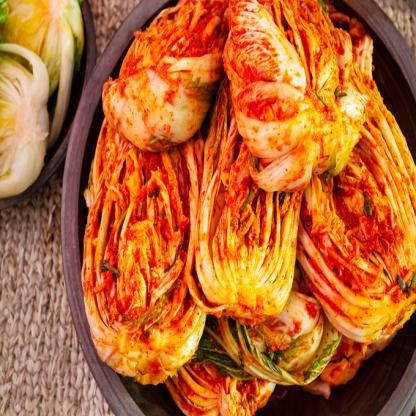kimchi: (78, 98, 206, 387), (300, 84, 416, 343), (198, 60, 301, 324), (234, 0, 379, 187), (105, 0, 228, 148), (216, 264, 356, 390), (161, 337, 301, 415)
